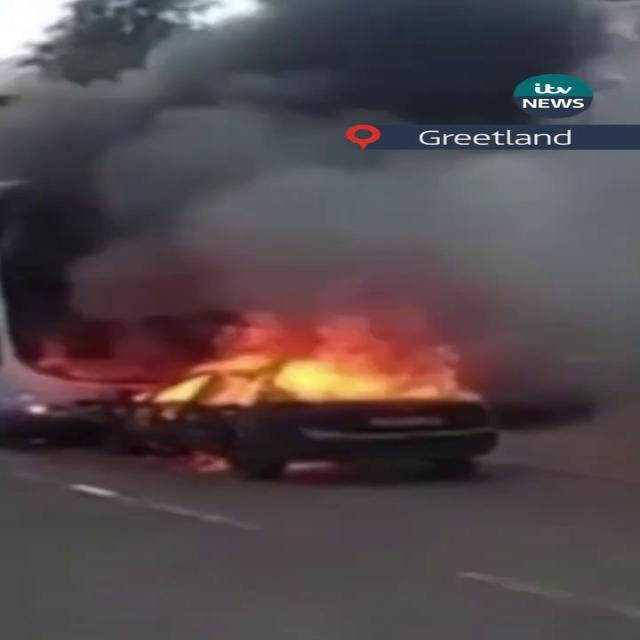Fire: (134, 312, 482, 414)
Smoke: (1, 0, 640, 338)
